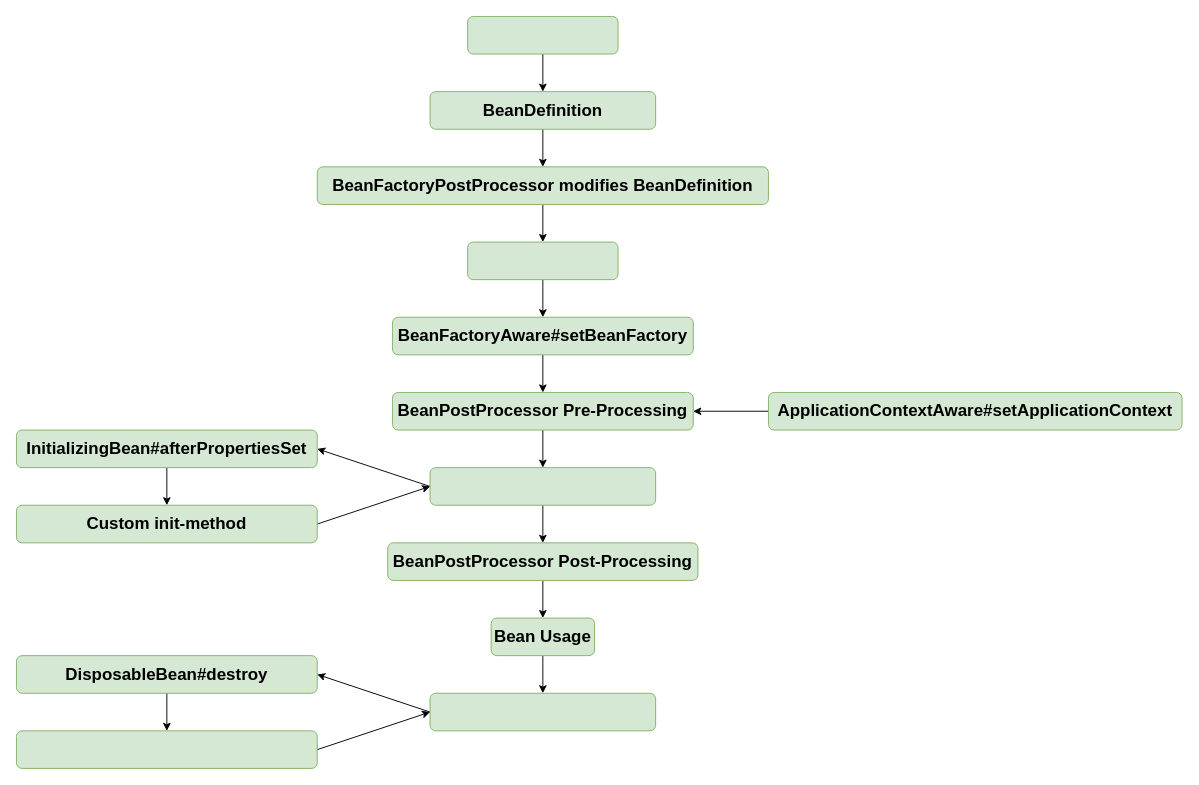
The diagram is 1199 pixels wide and 785 high, and some of its shapes have lost their labels. The shapes that lost their labels are listed below. From the top down, each one's centre as x and y in pixels, then its label:
At (542,35): "XML".
At (542,260): "Bean Instantiation".
At (542,486): "Initialize Bean".
At (542,711): "Destroy Bean".
At (166,749): "Custom destroy-method".
